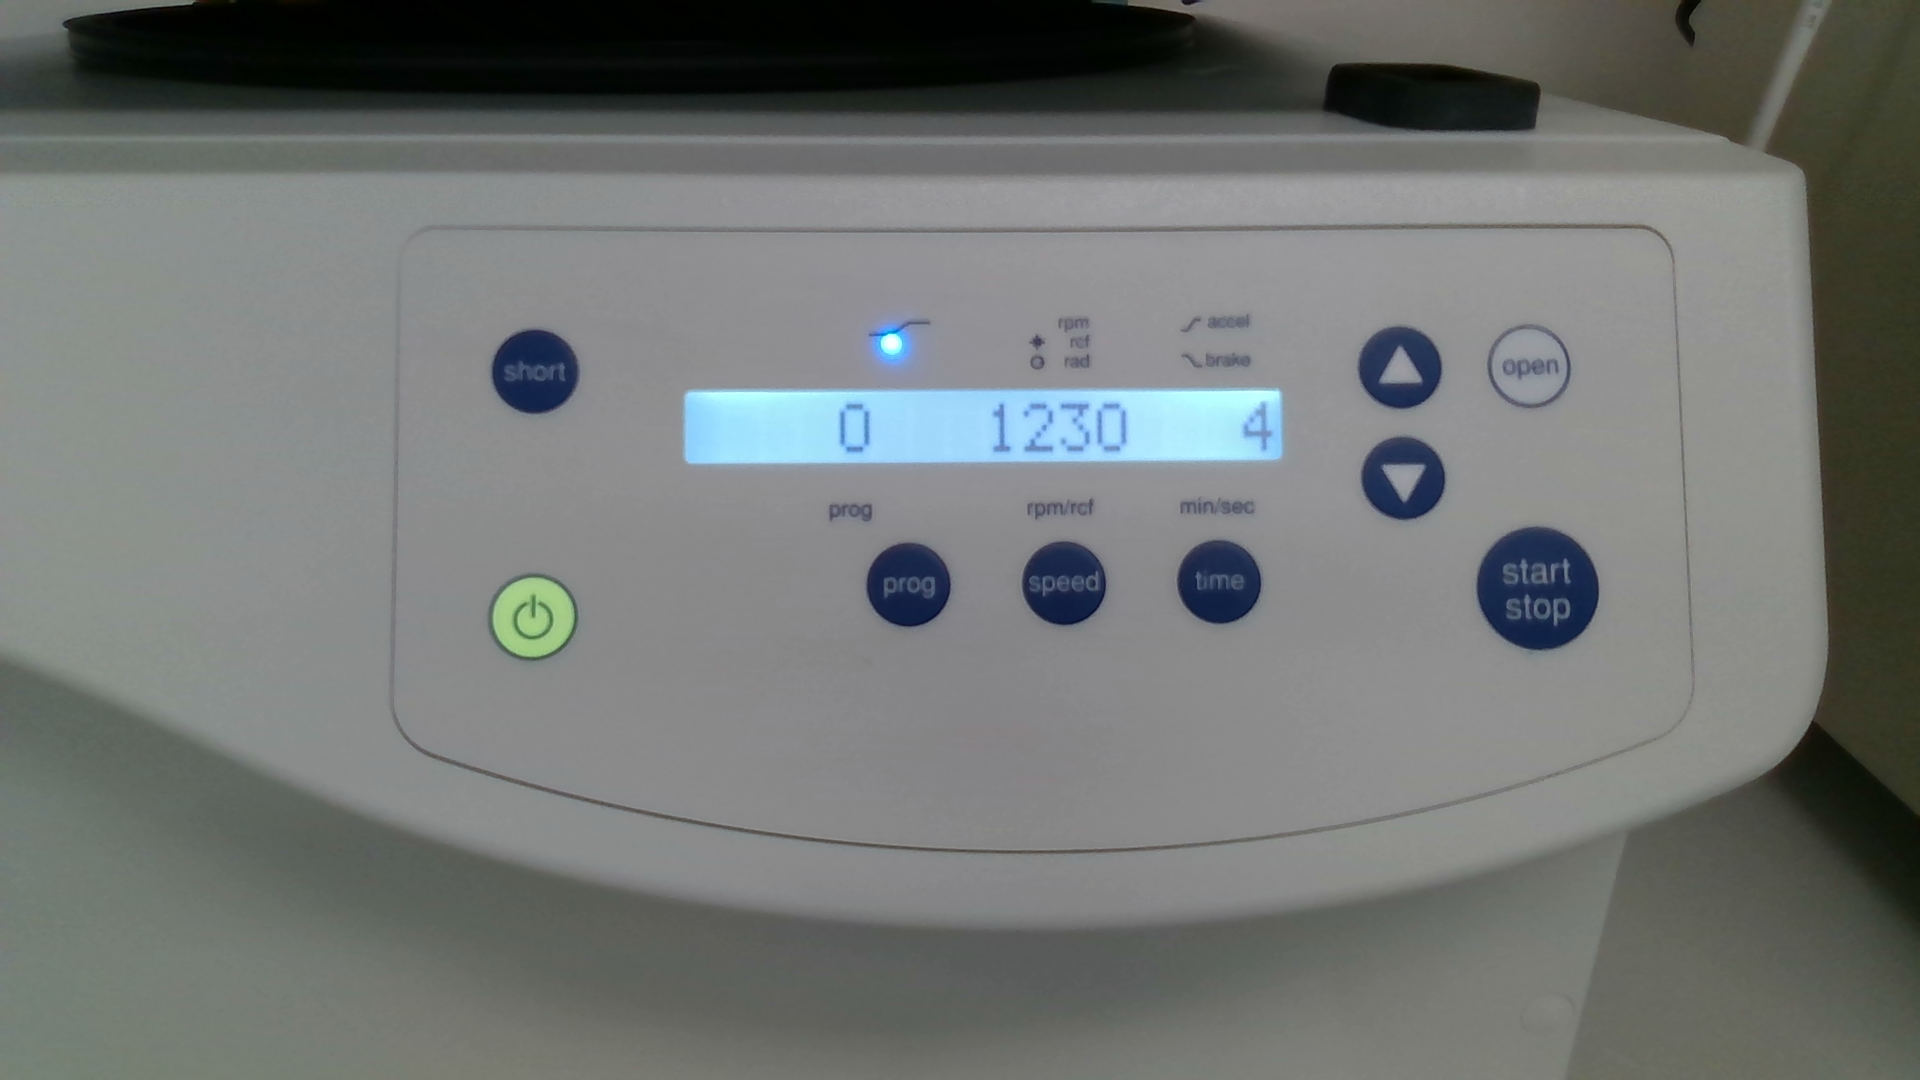0: (1097, 404, 1127, 452), (840, 404, 869, 454)
1: (992, 404, 1011, 454)
2: (1023, 404, 1054, 452)
3: (1060, 404, 1091, 452)
4: (1244, 401, 1273, 451)
open_off: (1487, 324, 1571, 409)
power_on: (488, 574, 578, 661)
